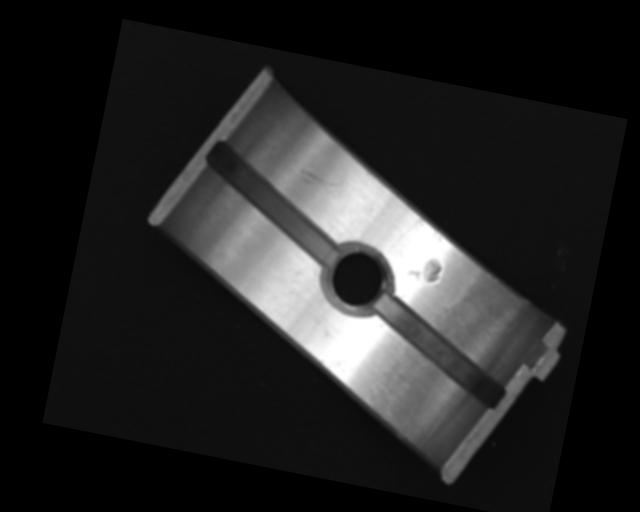bruise: (405, 253, 444, 285)
gap: (194, 139, 353, 268), (360, 292, 519, 409)
hole: (320, 238, 395, 320)
nick: (297, 167, 347, 194)
